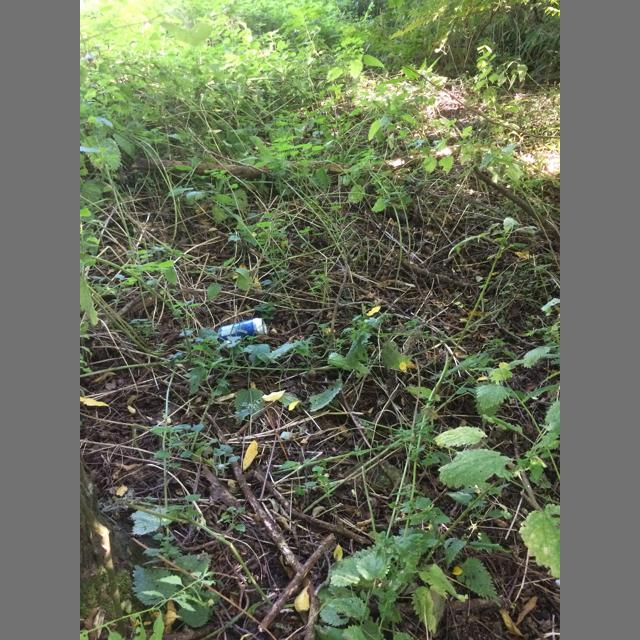litter: (218, 318, 267, 343)
